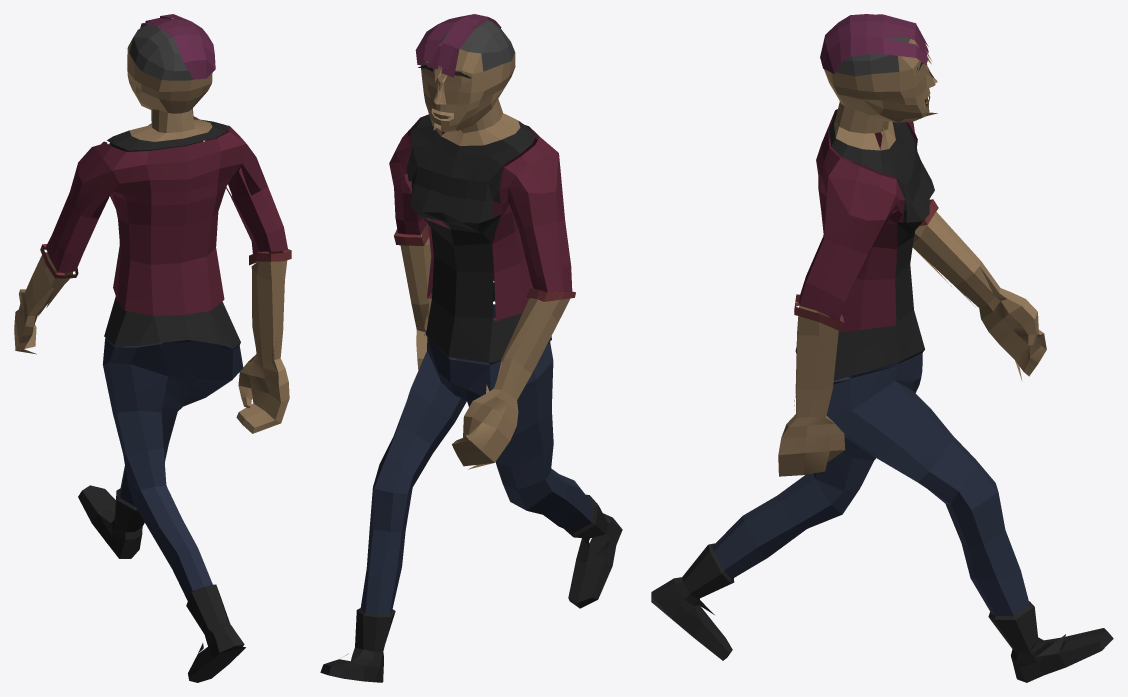
Rendered from person_8_w3.fbx.
3 views of the same model, side by side, from view 1: azimuth 30°, elevation 25°; view 2: azimuth 150°, elevation 25°; view 3: azimuth 270°, elevation 25° (orthographic). The views are drawn at different scales.
Visible parts, largest first — view 1: Female; view 2: Female; view 3: Female.
Boxes of the visible parts, bbox=[...] form: Female: bbox=[14, 14, 291, 682]; Female: bbox=[320, 14, 622, 682]; Female: bbox=[651, 14, 1113, 682].
Bounding box in the file's own units: 0.342 × 1 × 0.6336.
